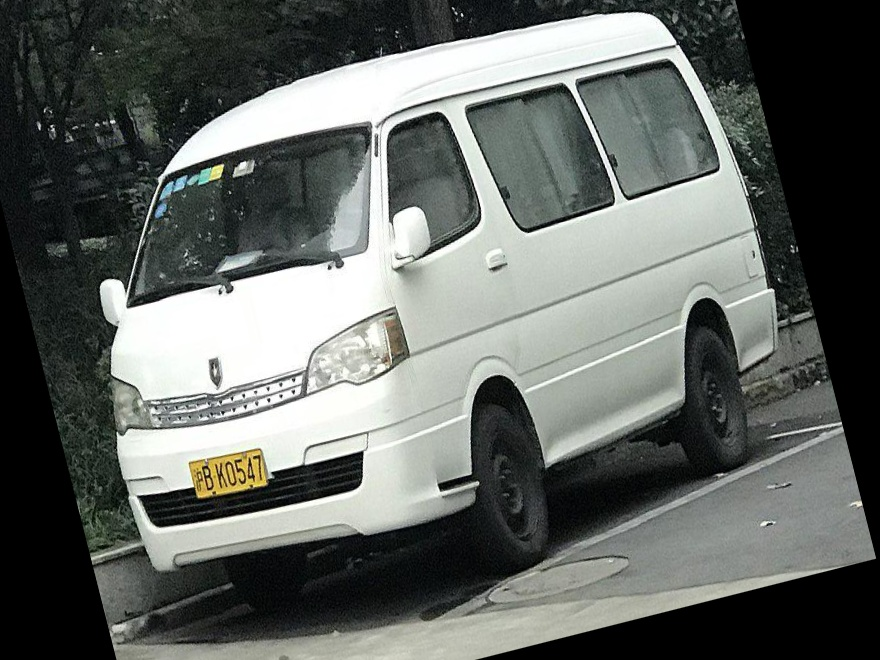van: (34, 0, 827, 650)
